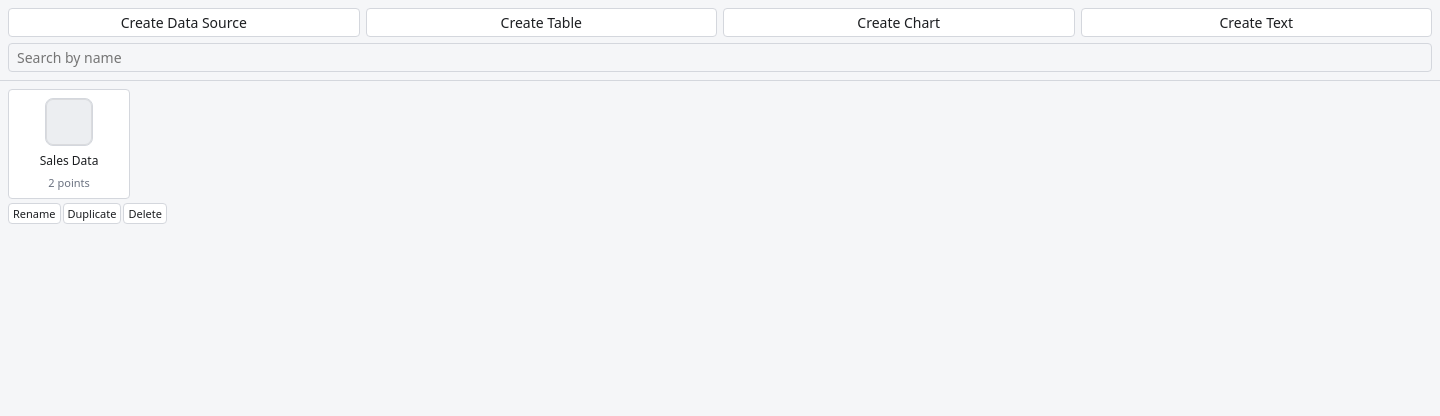
Test case: DataSourcesPanel selection › selects a data source and shows the detail panel
Click the button with aria-label "Select Sales Data" at (69, 144), box [8, 89, 130, 199]
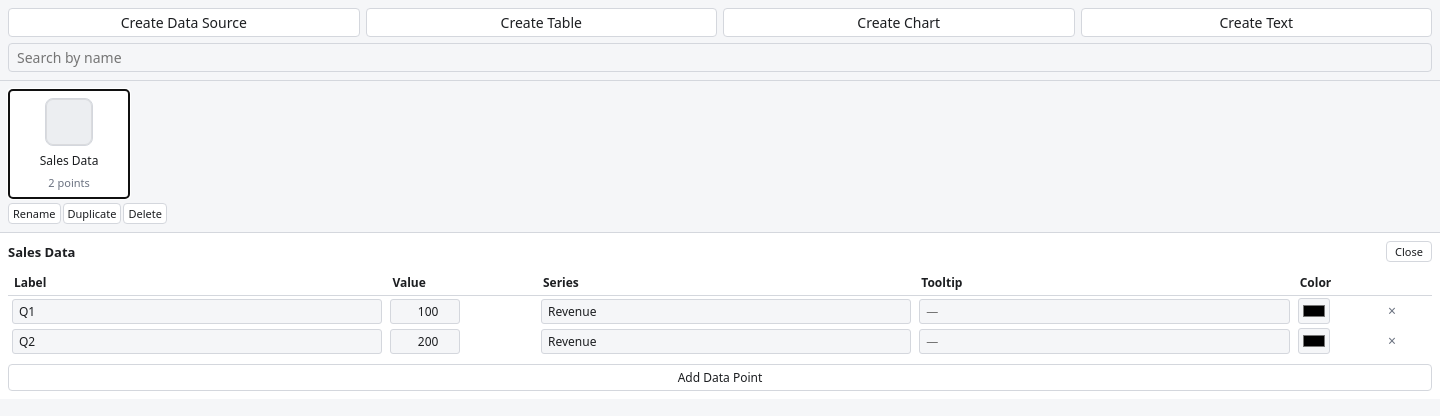
Expected: the element named "Data source detail" is shown, [0, 232, 1439, 399]
Expected: the 1st field named "Label" holds "Q1", [12, 298, 382, 324]
Expected: the 1st number field named "Value" holds "100", [390, 298, 460, 324]
